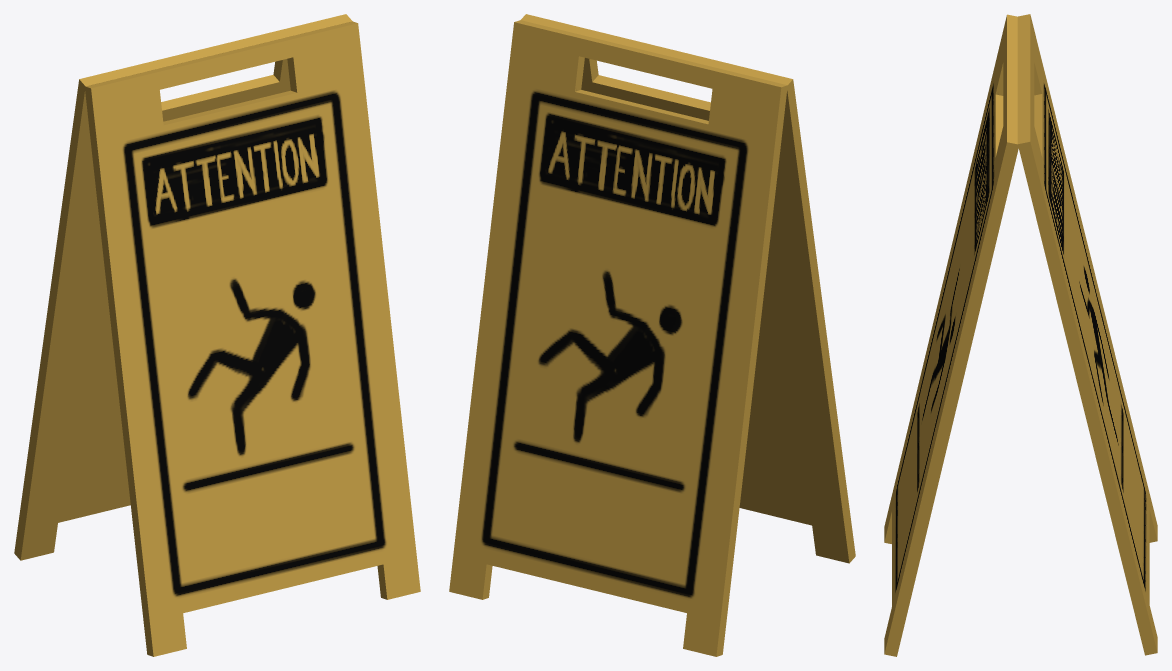
Rendered from AfficherAttention.fbx.
3 renders of one model, left to right at view 1: azimuth 30°, elevation 25°; view 2: azimuth 150°, elevation 25°; view 3: azimuth 270°, elevation 25°, orthographic. The views are drawn at different scales.
Parts seen in each view (by area): view 1: Cube.020, Cube.019; view 2: Cube.019, Cube.020; view 3: Cube.019, Cube.020.
Boxes of the visible parts, x1,y1,x2,y2 form: Cube.020: (84,21,420,656); Cube.019: (14,14,352,560); Cube.019: (449,20,787,656); Cube.020: (521,14,855,563); Cube.019: (1017,14,1157,655); Cube.020: (884,14,1018,656).
Bounding box in the file's own units: 399 × 750 × 360.
Materials: 1 (1 with a texture image).
